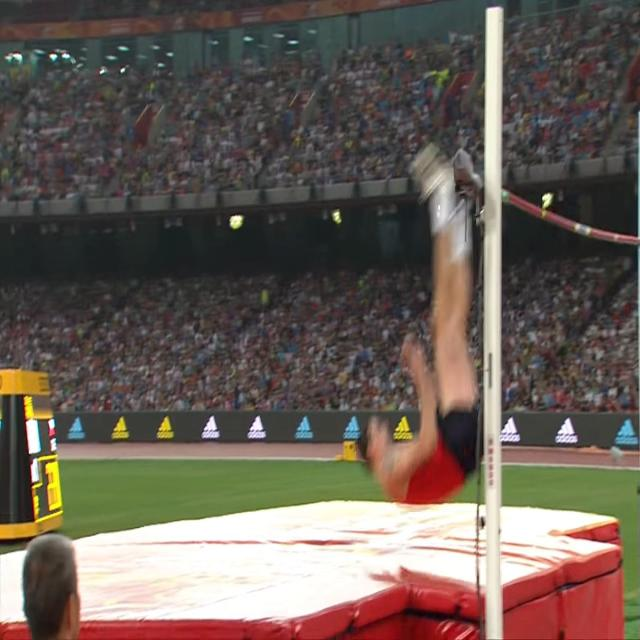land: (357, 140, 481, 504)
